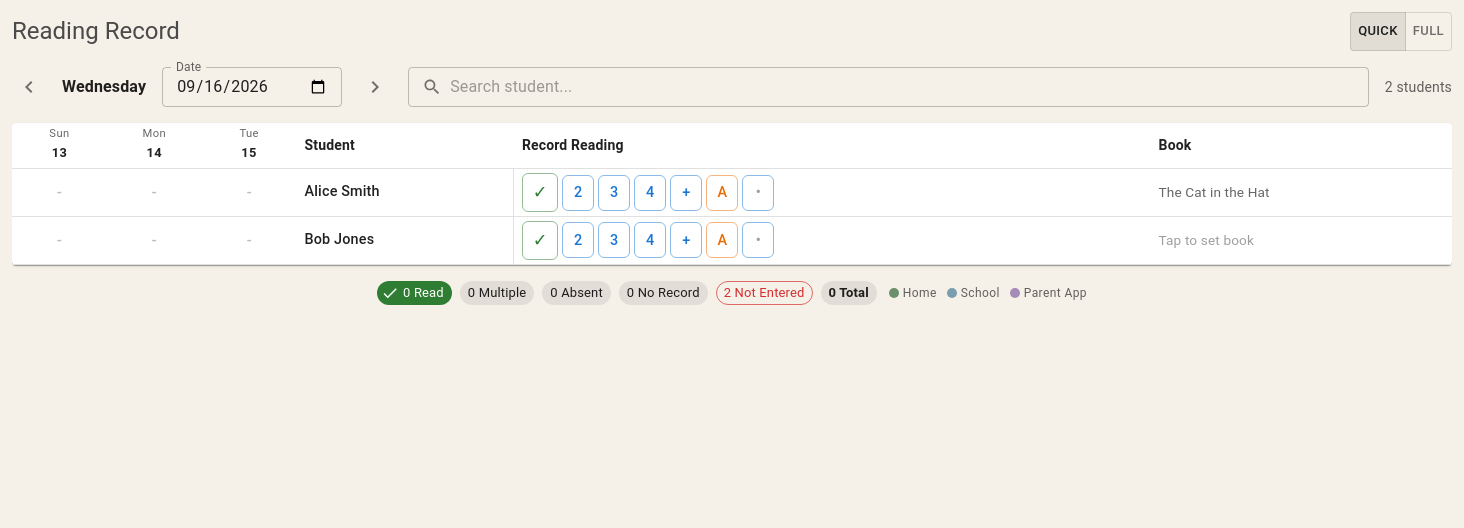
it: HomeReadingRegister Component › Initial Render › should display "Select a student" message when no student is selected
Click the button "Full" at (1428, 31), box [1405,12,1452,51]
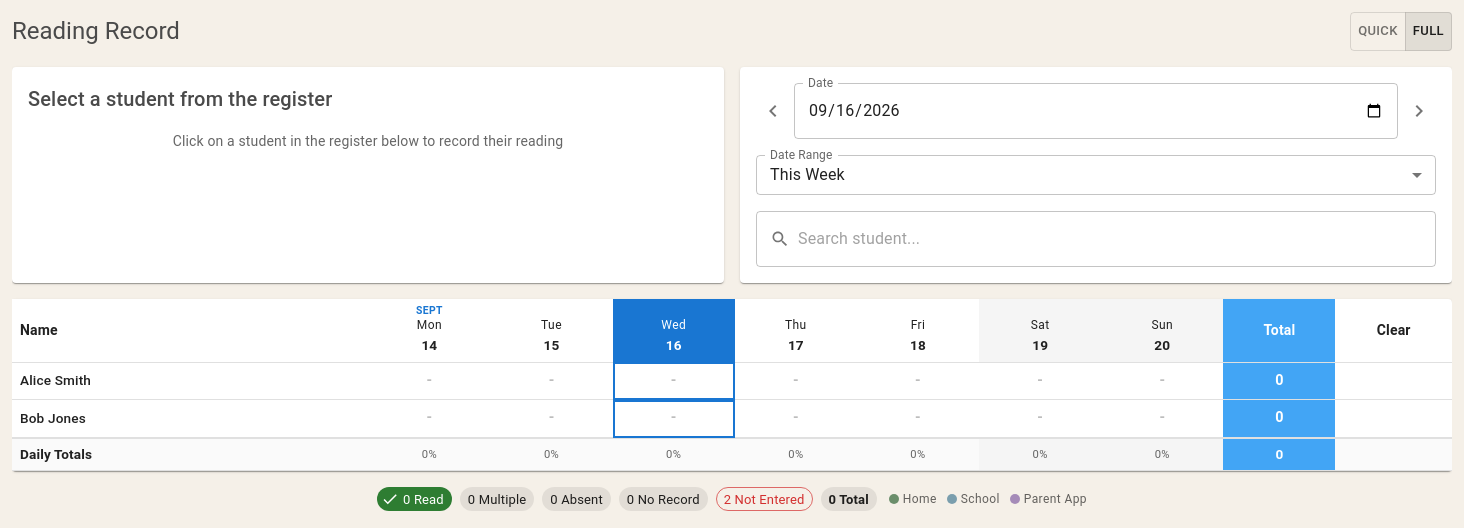
expect the heading "Select a student from the register" is shown: met, box [28,83,332,115]
